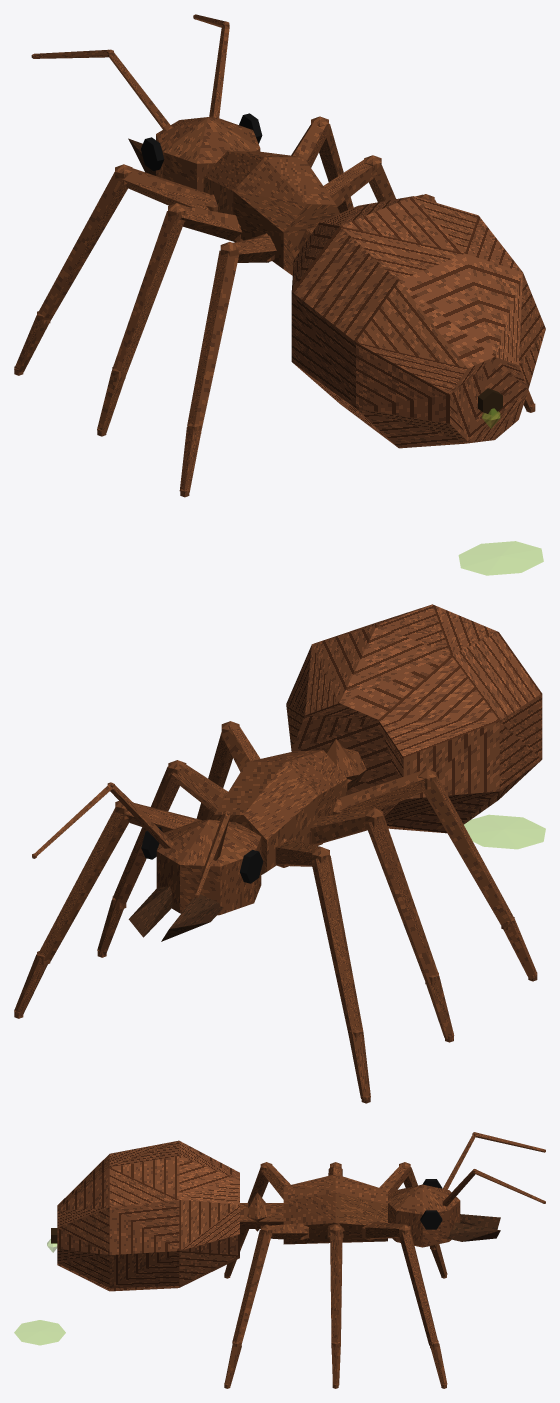
The model's file is mon_ant_acid_small.glb.
3 renders of one model, top to bottom at view 1: azimuth 30°, elevation 25°; view 2: azimuth 150°, elevation 25°; view 3: azimuth 270°, elevation 25°, orthographic. The views are drawn at different scales.
Visible parts, largest first — view 1: block_gaster, block_thorax, block_head, block_leg-121, block_leg-111, block_leg-101, block_puddle, block_leg-100, block_leg-110, block_leg110, block_antenna10, block_leg101 (+6 smaller); view 2: block_gaster, block_thorax, block_head, block_leg-101, block_leg-111, block_leg101, block_leg-121, block_puddle, block_leg-120, block_leg111, block_leg-110, block_leg110 (+15 smaller); view 3: block_gaster, block_thorax, block_head, block_leg121, block_leg101, block_leg111, block_puddle, block_petiole, block_mandible1, block_leg100, block_leg120, block_mandible-1 (+10 smaller).
Part boxes in pixels (x1=…): block_gaster: x1=291, y1=196, x2=545, y2=448; block_thorax: x1=203, y1=151, x2=339, y2=275; block_head: x1=156, y1=117, x2=260, y2=191; block_leg-121: x1=187, y1=250, x2=238, y2=429; block_leg-111: x1=112, y1=211, x2=184, y2=375; block_leg-101: x1=37, y1=172, x2=127, y2=320; block_puddle: x1=458, y1=541, x2=543, y2=575; block_leg-100: x1=123, y1=168, x2=215, y2=210; block_leg-110: x1=180, y1=205, x2=241, y2=242; block_leg110: x1=323, y1=157, x2=377, y2=206; block_antenna10: x1=209, y1=25, x2=229, y2=118; block_leg101: x1=319, y1=123, x2=353, y2=213; block_gaster: x1=286, y1=604, x2=542, y2=833; block_thorax: x1=211, y1=750, x2=347, y2=874; block_head: x1=156, y1=819, x2=261, y2=915; block_leg-101: x1=312, y1=856, x2=363, y2=1034; block_leg-111: x1=368, y1=815, x2=437, y2=981; block_leg101: x1=38, y1=808, x2=128, y2=961; block_leg-121: x1=423, y1=775, x2=513, y2=927; block_puddle: x1=464, y1=814, x2=545, y2=849; block_leg-120: x1=338, y1=770, x2=426, y2=813; block_leg111: x1=112, y1=766, x2=179, y2=906; block_leg-110: x1=310, y1=808, x2=371, y2=844; block_leg110: x1=172, y1=764, x2=227, y2=813; block_gaster: x1=57, y1=1140, x2=239, y2=1291; block_thorax: x1=283, y1=1174, x2=387, y2=1244; block_head: x1=388, y1=1184, x2=460, y2=1247; block_leg121: x1=232, y1=1230, x2=271, y2=1345; block_leg101: x1=399, y1=1231, x2=437, y2=1345; block_leg111: x1=330, y1=1231, x2=342, y2=1344; block_puddle: x1=14, y1=1320, x2=65, y2=1345; block_petiole: x1=240, y1=1203, x2=283, y2=1228; block_mandible1: x1=446, y1=1222, x2=500, y2=1241; block_leg100: x1=364, y1=1222, x2=403, y2=1238; block_leg120: x1=269, y1=1223, x2=308, y2=1240; block_mandible-1: x1=460, y1=1214, x2=500, y2=1229.
Size of the model in its own units: 0.6155 by 0.4674 by 1.22.
Materials: 2 (2 with a texture image).
